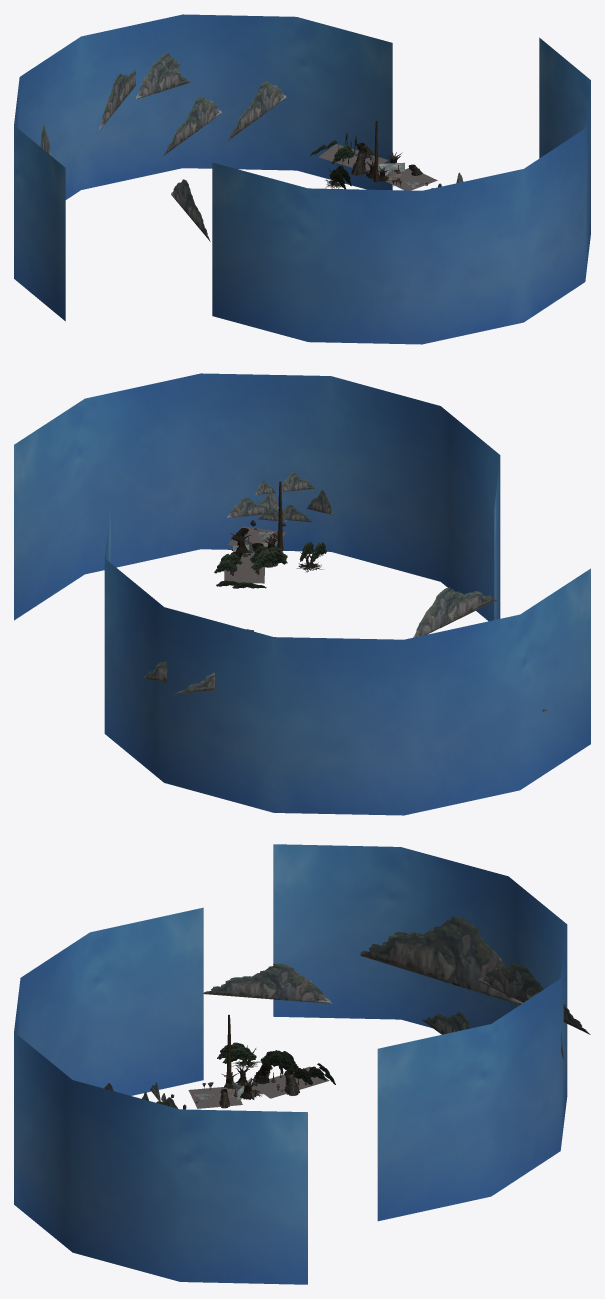
Rendered from env_kash_beach_pre.glb.
3 views of the same model, one above another, from view 1: azimuth 30°, elevation 25°; view 2: azimuth 150°, elevation 25°; view 3: azimuth 270°, elevation 25° (orthographic). The views are drawn at different scales.
Parts seen in each view (by area): view 1: skybox_half_mesh, skybox_half_mesh (1), kash_island_bg_mesh (11), kash_island_bg_mesh (8), kash_island_bg_mesh (13), kash_island_bg_mesh (14), kash_island_bg_mesh (10), temple_ground_mesh (1), temple_ground_mesh (2); view 2: skybox_half_mesh (1), skybox_half_mesh, kash_island_bg_mesh (10), temple_ground_mesh (2); view 3: skybox_half_mesh, skybox_half_mesh (1), kash_island_bg_mesh (9), kash_island_bg_mesh (10), kash_island_bg_mesh (14), kash_island_bg_mesh (8), temple_ground_mesh (2), temple_ground_mesh (1).
Part boxes in pixels (x1,y1,x2,y2): skybox_half_mesh: (212, 37, 590, 344); skybox_half_mesh (1): (14, 14, 392, 321); kash_island_bg_mesh (11): (227, 81, 286, 141); kash_island_bg_mesh (8): (163, 96, 221, 156); kash_island_bg_mesh (13): (135, 60, 190, 99); kash_island_bg_mesh (14): (99, 69, 135, 130); kash_island_bg_mesh (10): (171, 179, 210, 241); temple_ground_mesh (1): (386, 168, 437, 190); temple_ground_mesh (2): (318, 144, 388, 170); skybox_half_mesh (1): (104, 506, 590, 815); skybox_half_mesh: (14, 373, 500, 621); kash_island_bg_mesh (10): (413, 587, 498, 637); temple_ground_mesh (2): (224, 558, 264, 583); skybox_half_mesh: (14, 907, 307, 1284); skybox_half_mesh (1): (273, 844, 567, 1221); kash_island_bg_mesh (9): (360, 916, 523, 1004); kash_island_bg_mesh (10): (203, 963, 331, 1003); kash_island_bg_mesh (14): (478, 963, 590, 1034); kash_island_bg_mesh (8): (422, 1011, 470, 1034); temple_ground_mesh (2): (258, 1066, 329, 1098); temple_ground_mesh (1): (188, 1087, 242, 1108).
Size of the model in its own units: 1053 by 316 by 959.
Materials: 22 (22 with a texture image).
